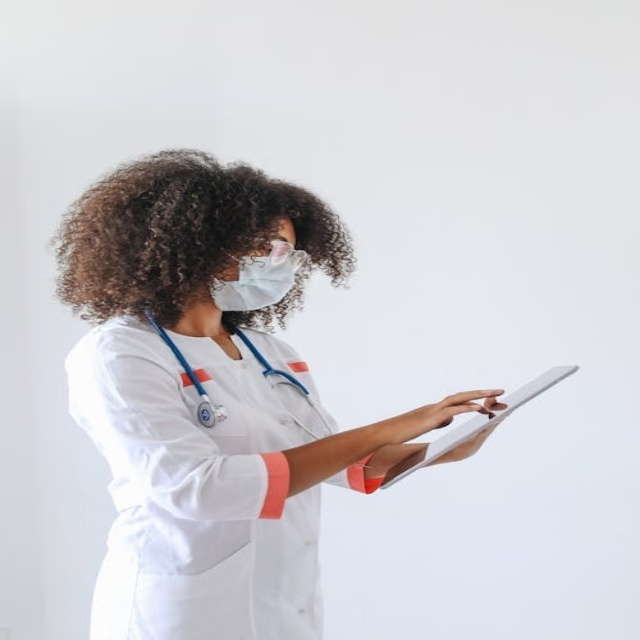Gafas: (253, 231, 312, 276)
Mascara: (208, 239, 306, 312)
Sin_guantes: (380, 387, 515, 444), (420, 414, 507, 468)
